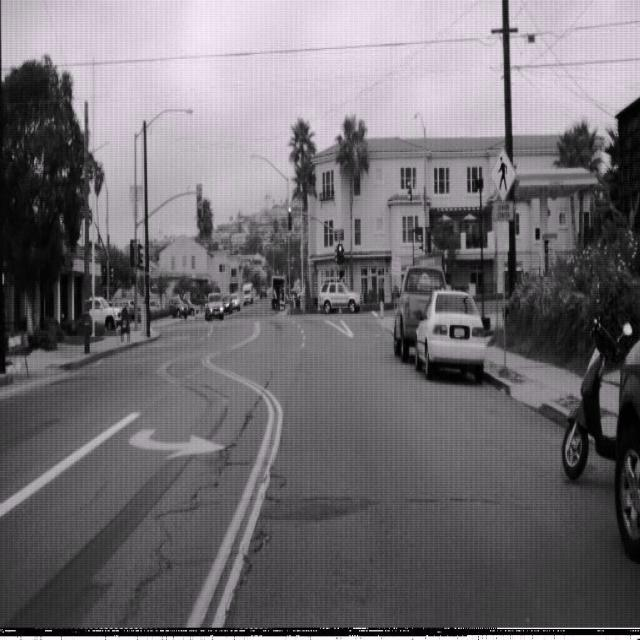pedestrianCrossing: (489, 145, 517, 202)
